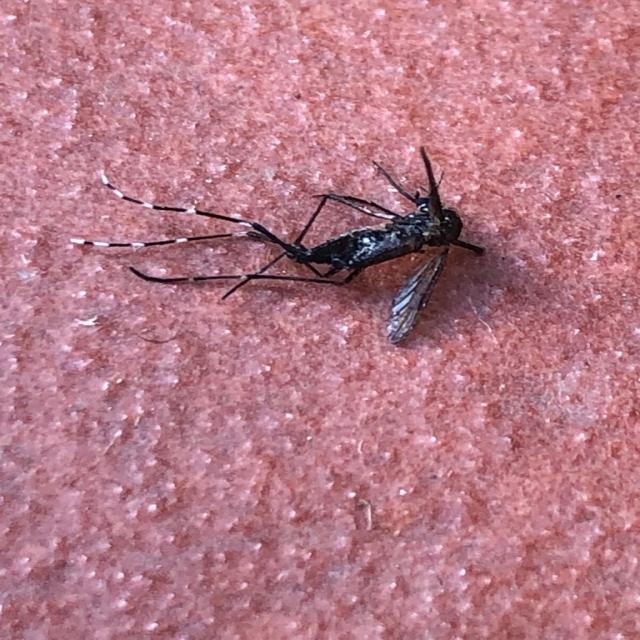albopictus: (76, 131, 494, 346)
